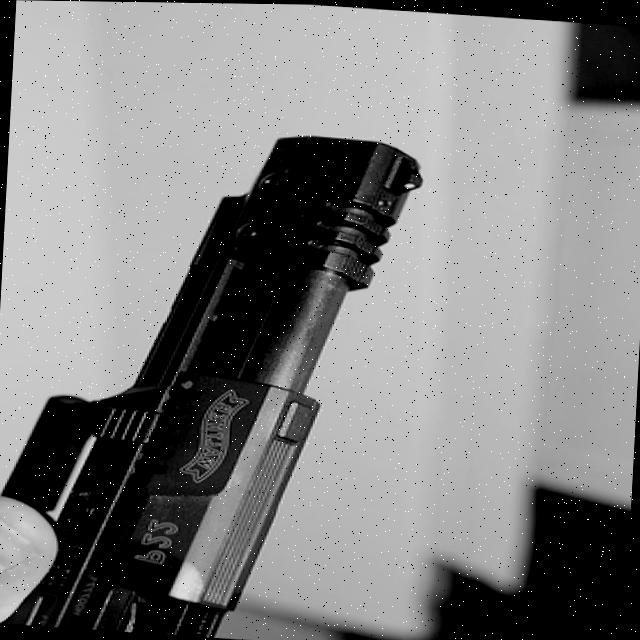pistol: (0, 110, 432, 640)
